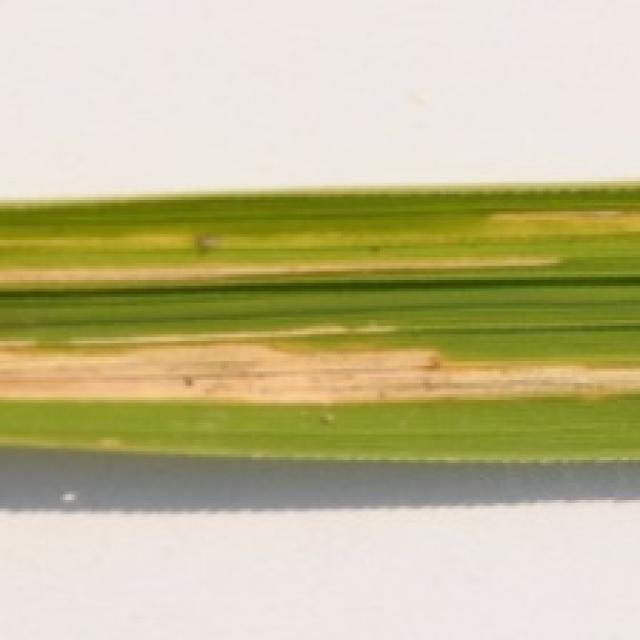Rice___Bacterial_Leaf_Blight: (0, 179, 637, 466)
